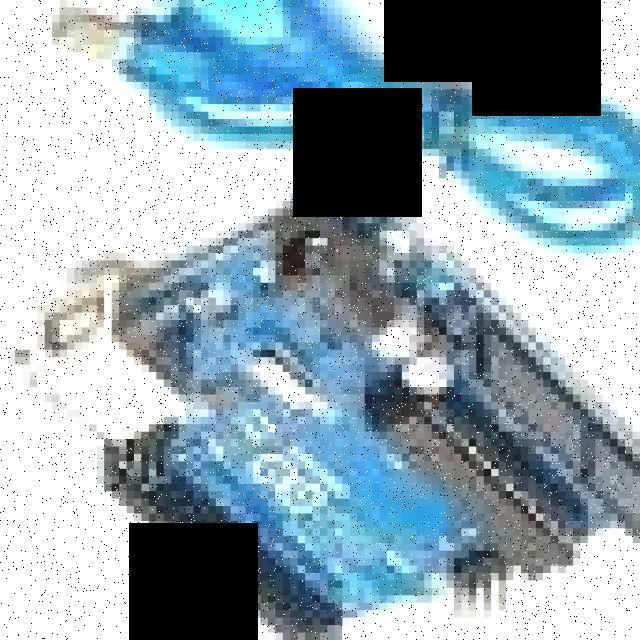arduino: (6, 199, 640, 640)
